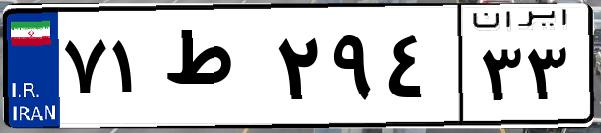1: (110, 28, 158, 98)
2: (270, 28, 330, 110)
3: (475, 38, 525, 113), (525, 38, 570, 115)
4: (385, 28, 445, 110)
7: (57, 26, 110, 100)
9: (330, 28, 385, 110)
ط: (158, 20, 270, 120)
